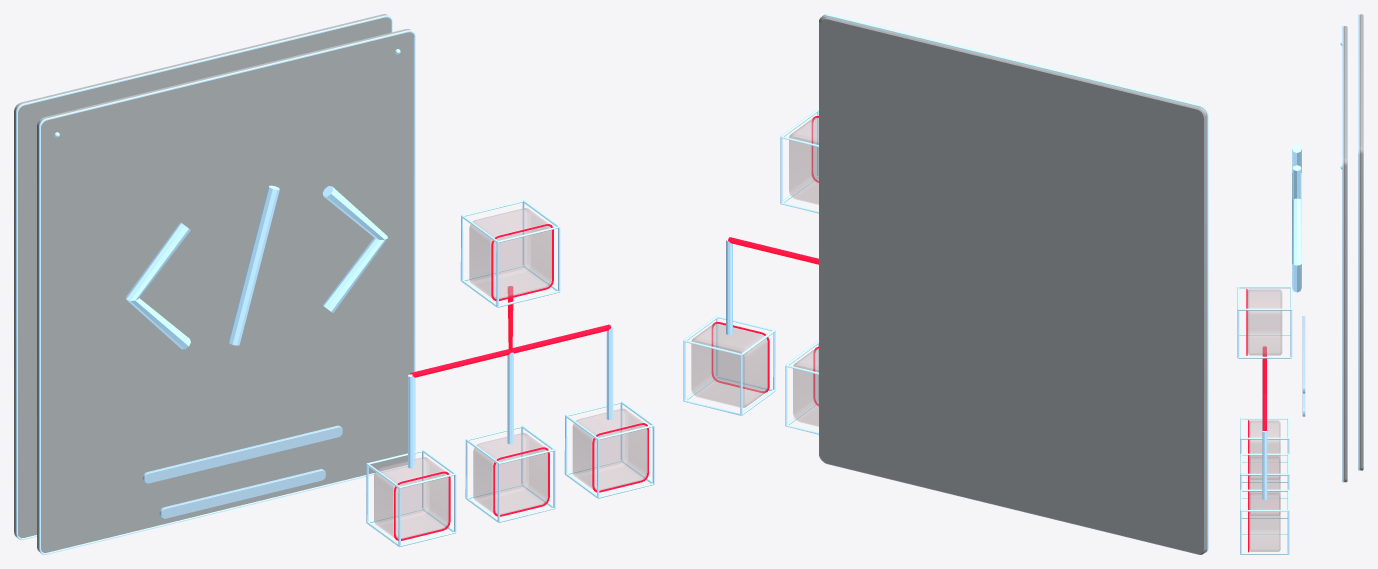
Rendered from 31-metadata.glb.
3 renders of one model, left to right at view 1: azimuth 30°, elevation 25°; view 2: azimuth 150°, elevation 25°; view 3: azimuth 270°, elevation 25°, orthographic. The views are drawn at different scales.
Visible parts, largest first — view 1: BC thin clear technical glass, BC cool glass edge, BC subtle ruby technical glass, BC etched pale glass, BC ruby signal edge; view 2: BC thin clear technical glass, BC subtle ruby technical glass, BC cool glass edge, BC ruby signal edge; view 3: BC cool glass edge, BC subtle ruby technical glass, BC thin clear technical glass, BC ruby signal edge, BC etched pale glass.
Part boxes in pixels (bbox=[...]): BC thin clear technical glass: bbox=[14, 14, 413, 552]; BC cool glass edge: bbox=[16, 15, 654, 554]; BC subtle ruby technical glass: bbox=[374, 208, 646, 538]; BC etched pale glass: bbox=[142, 425, 342, 519]; BC ruby signal edge: bbox=[394, 224, 648, 540]; BC thin clear technical glass: bbox=[819, 15, 1207, 554]; BC subtle ruby technical glass: bbox=[691, 117, 818, 426]; BC cool glass edge: bbox=[683, 14, 1208, 552]; BC ruby signal edge: bbox=[711, 116, 818, 406]; BC cool glass edge: bbox=[1237, 14, 1359, 554]; BC subtle ruby technical glass: bbox=[1247, 289, 1282, 551]; BC thin clear technical glass: bbox=[1343, 14, 1363, 482]; BC ruby signal edge: bbox=[1246, 289, 1266, 552]; BC etched pale glass: bbox=[1302, 316, 1305, 416].
Bounding box in the file's own units: 2.08 × 1.63 × 0.548.
